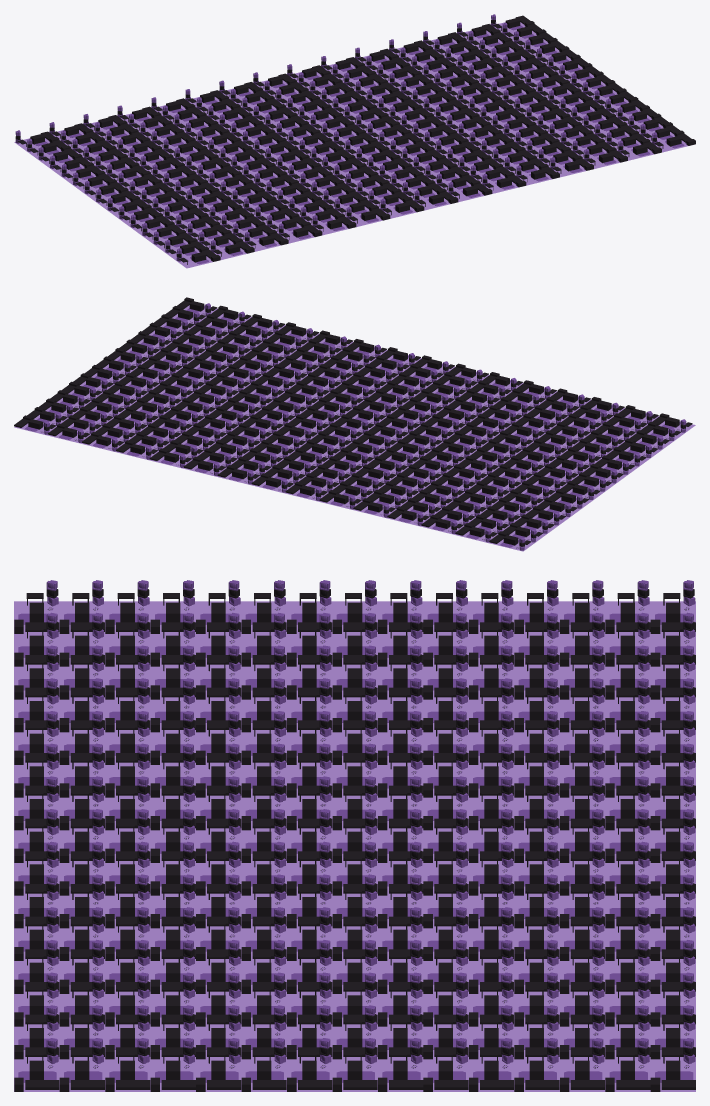
Rendered from room_colored_no_walls_no_guitar_array_copy.glb.
3 renders of one model, top to bottom at view 1: azimuth 30°, elevation 25°; view 2: azimuth 150°, elevation 25°; view 3: azimuth 270°, elevation 25°, orthographic. The views are drawn at different scales.
Visible parts, largest first — view 1: Walls.001; view 2: Walls.001; view 3: Walls.001.
Part boxes in pixels (x1,y1,x2,y2): Walls.001: (14, 14, 695, 268); Walls.001: (14, 297, 695, 551); Walls.001: (14, 580, 695, 1091).
Bounding box in the file's own units: 89.35 × 1.91 × 52.5.
